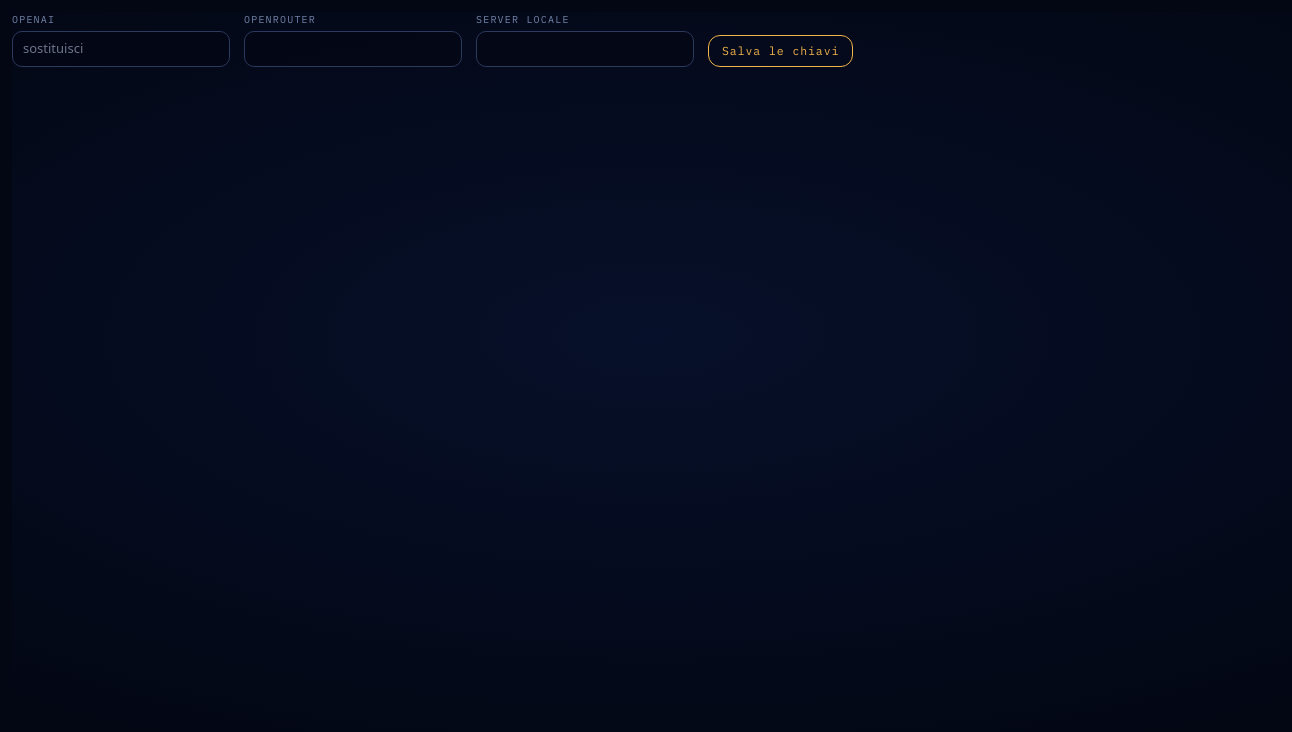
Test: DesktopKeys › shows the backend's refusal
Type "sk-1" into the password field labelled "OpenAI" at (121, 49), box x1=12 y1=31 x2=230 y2=66
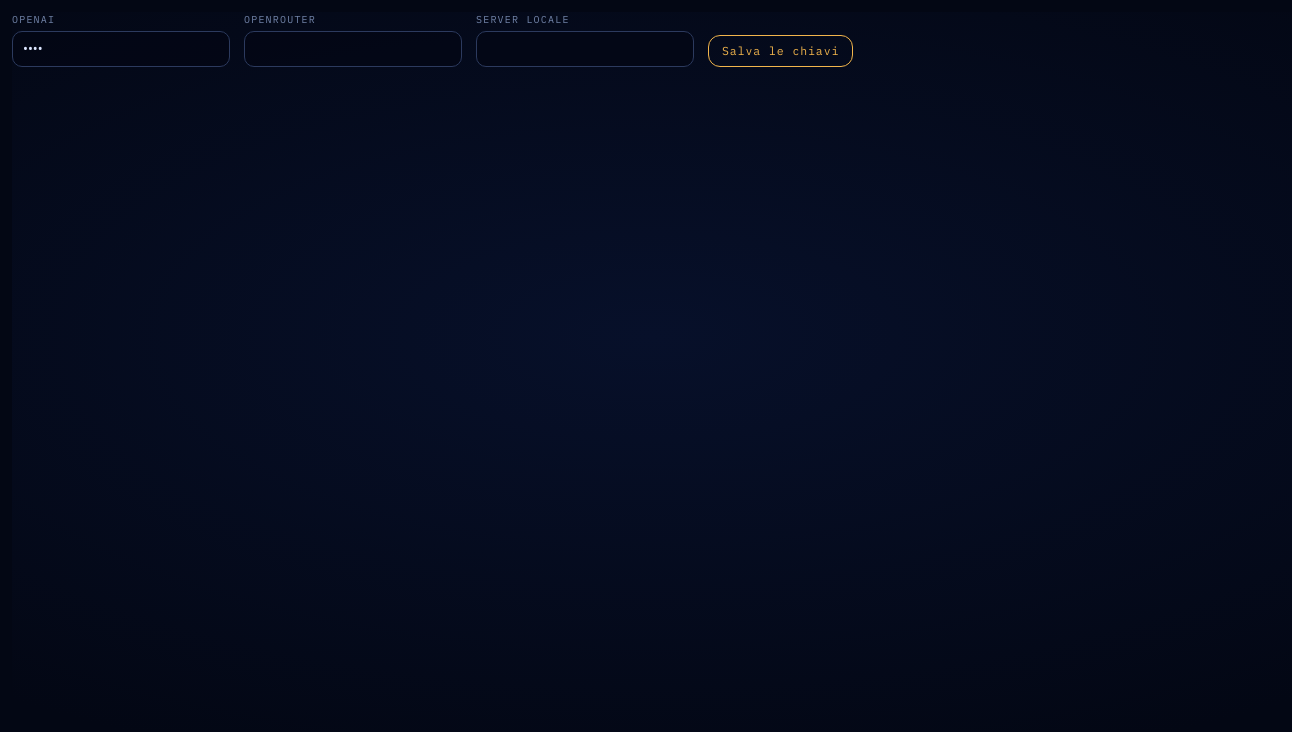
Click the button "Salva le chiavi" at (781, 51), box x1=708 y1=35 x2=853 y2=67
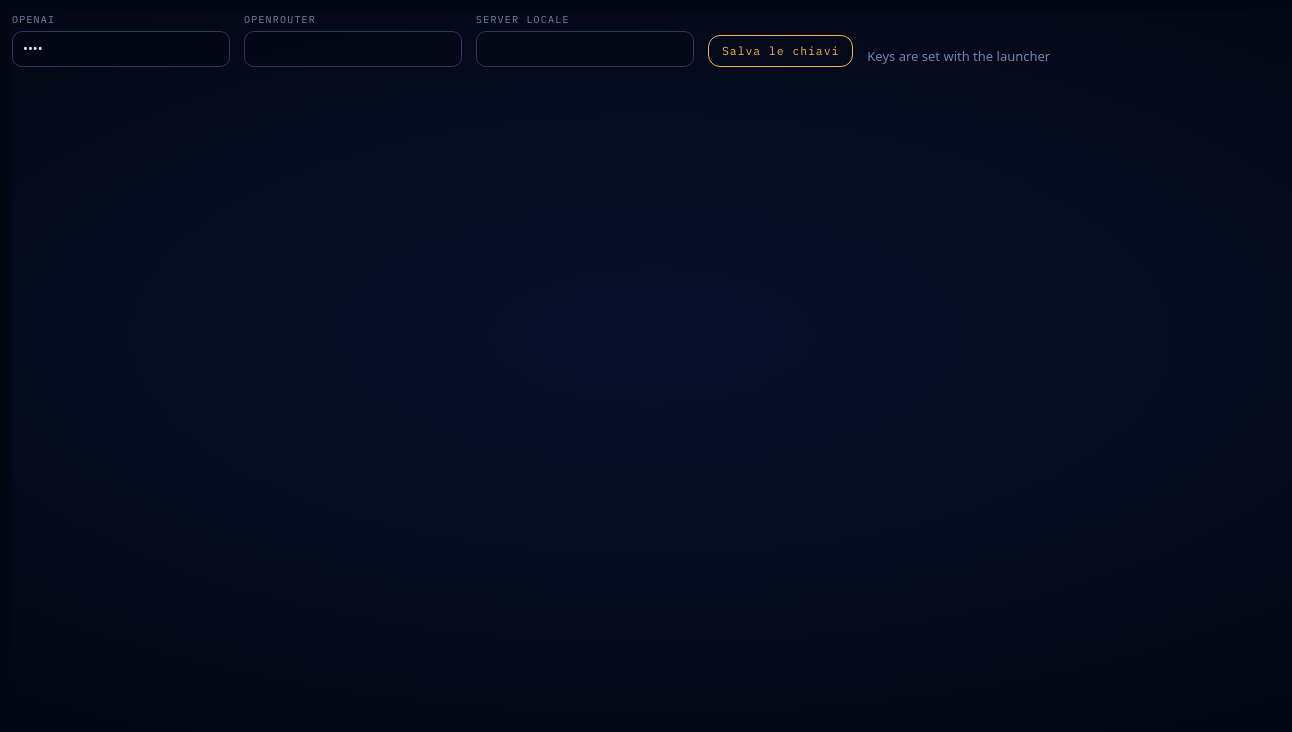
Now the text "Keys are set with the launcher" is shown, box x1=867 y1=47 x2=1050 y2=66
